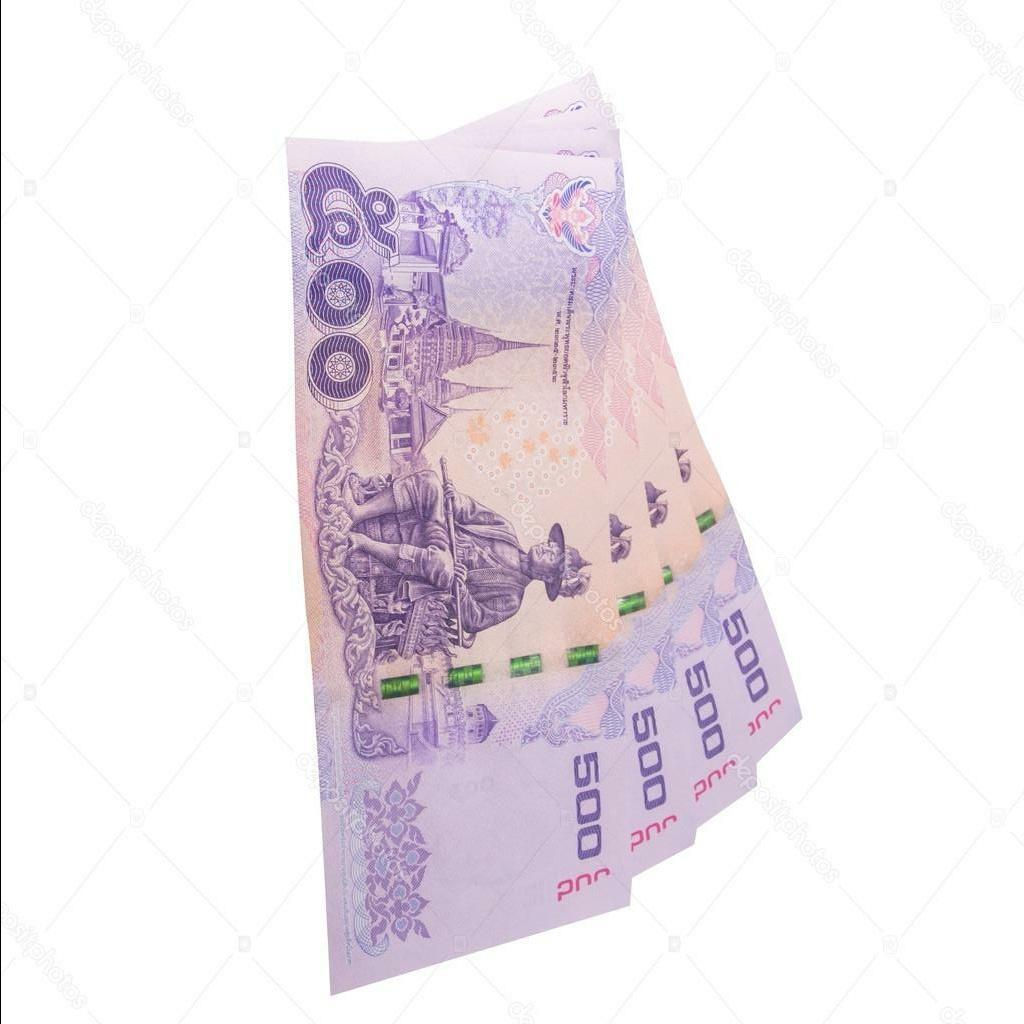500BahtTai: (284, 136, 614, 946)
